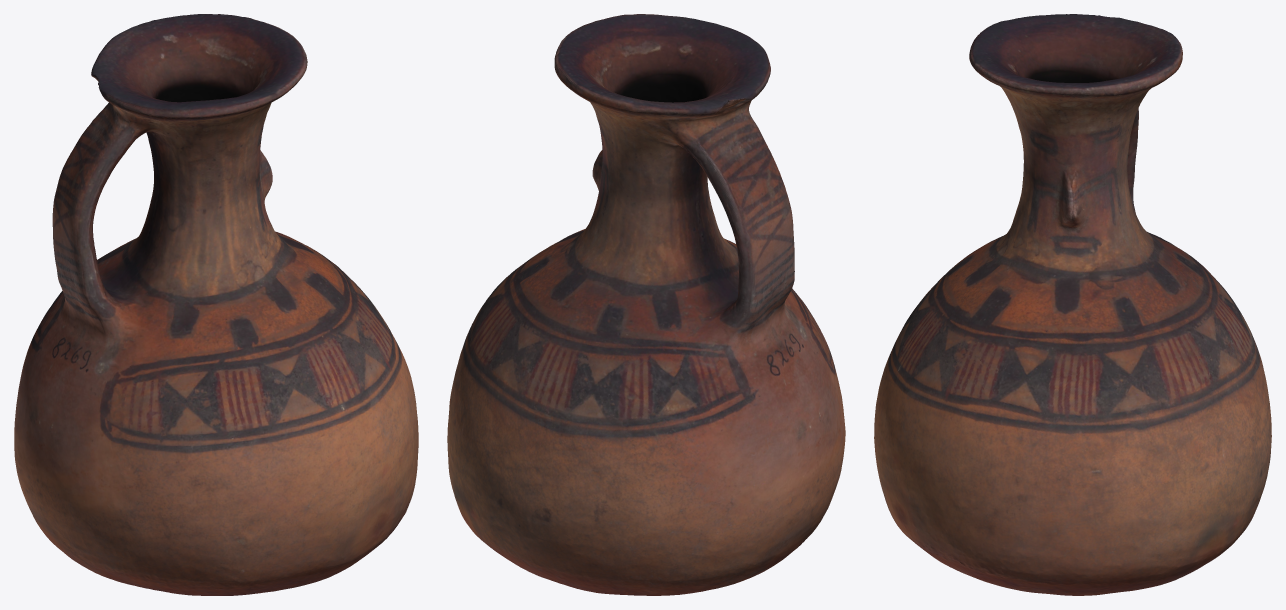
The model's file is vasija.glb.
3 views of the same model, side by side, from view 1: azimuth 30°, elevation 25°; view 2: azimuth 150°, elevation 25°; view 3: azimuth 270°, elevation 25° (orthographic).
Parts seen in each view (by area): view 1: 159; view 2: 159; view 3: 159.
Boxes of the visible parts, x1,y1,x2,y2 form: 159: (14,14,418,595); 159: (447,14,845,595); 159: (874,14,1271,595).
Size of the model in its own units: 122 by 167 by 121.
Materials: 1 (1 with a texture image).
